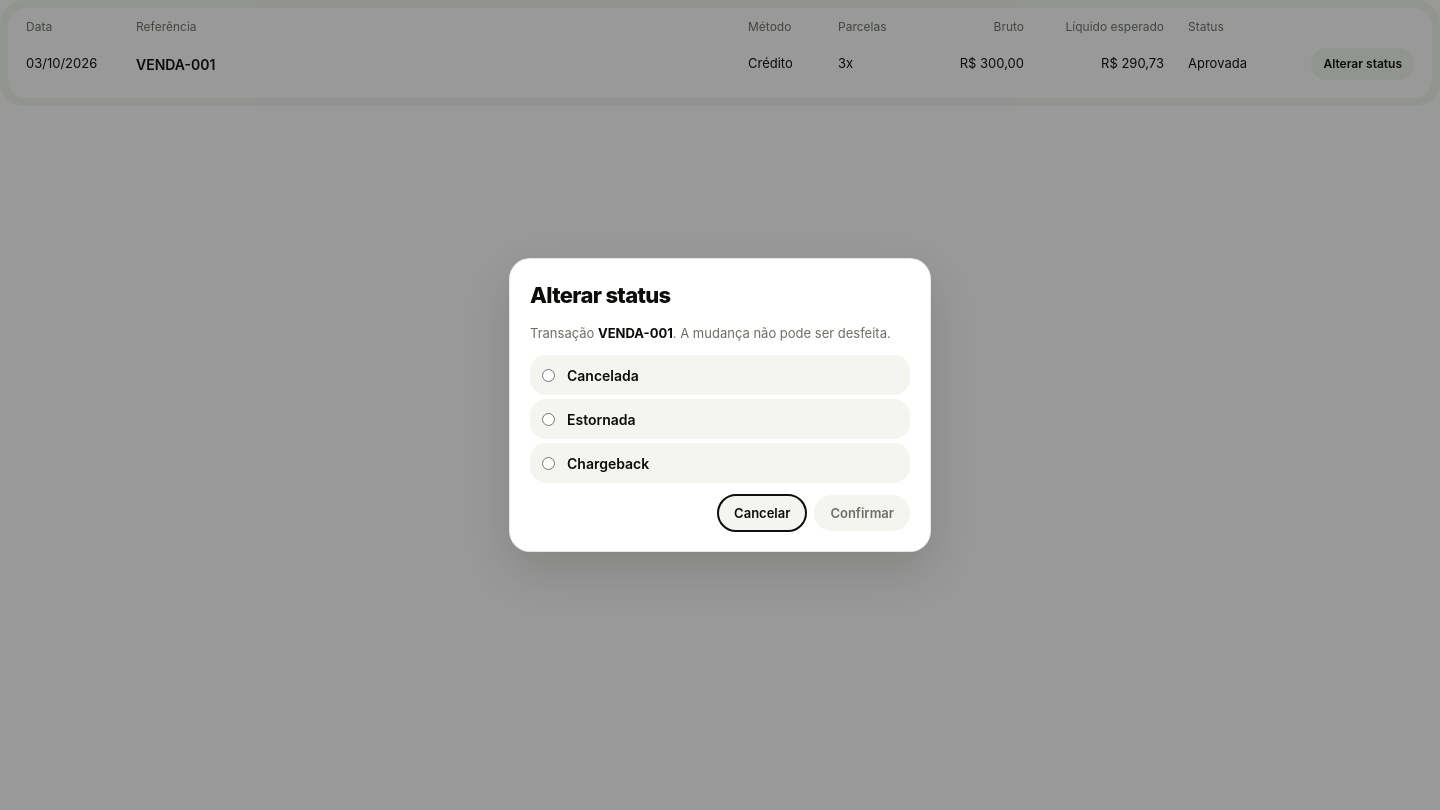
Test: StatusDialog › mantém Confirmar desabilitado sem opção escolhida (TXN-08)
Step 1. Click the button "Confirmar" → (862, 513), box [814,495,910,531]
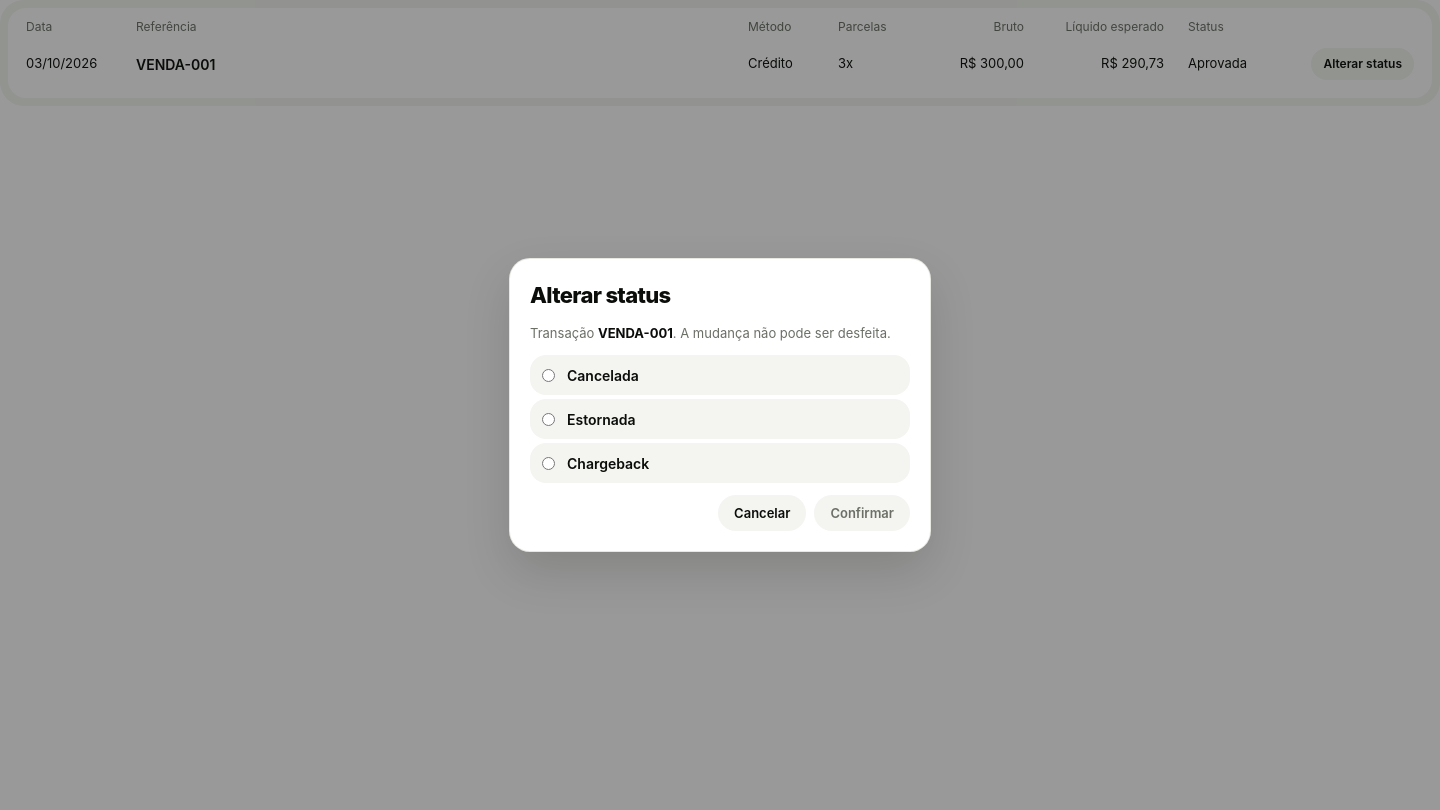
Step 2. Click the radio button labelled "Estornada" → (548, 419), box [542,413,555,426]
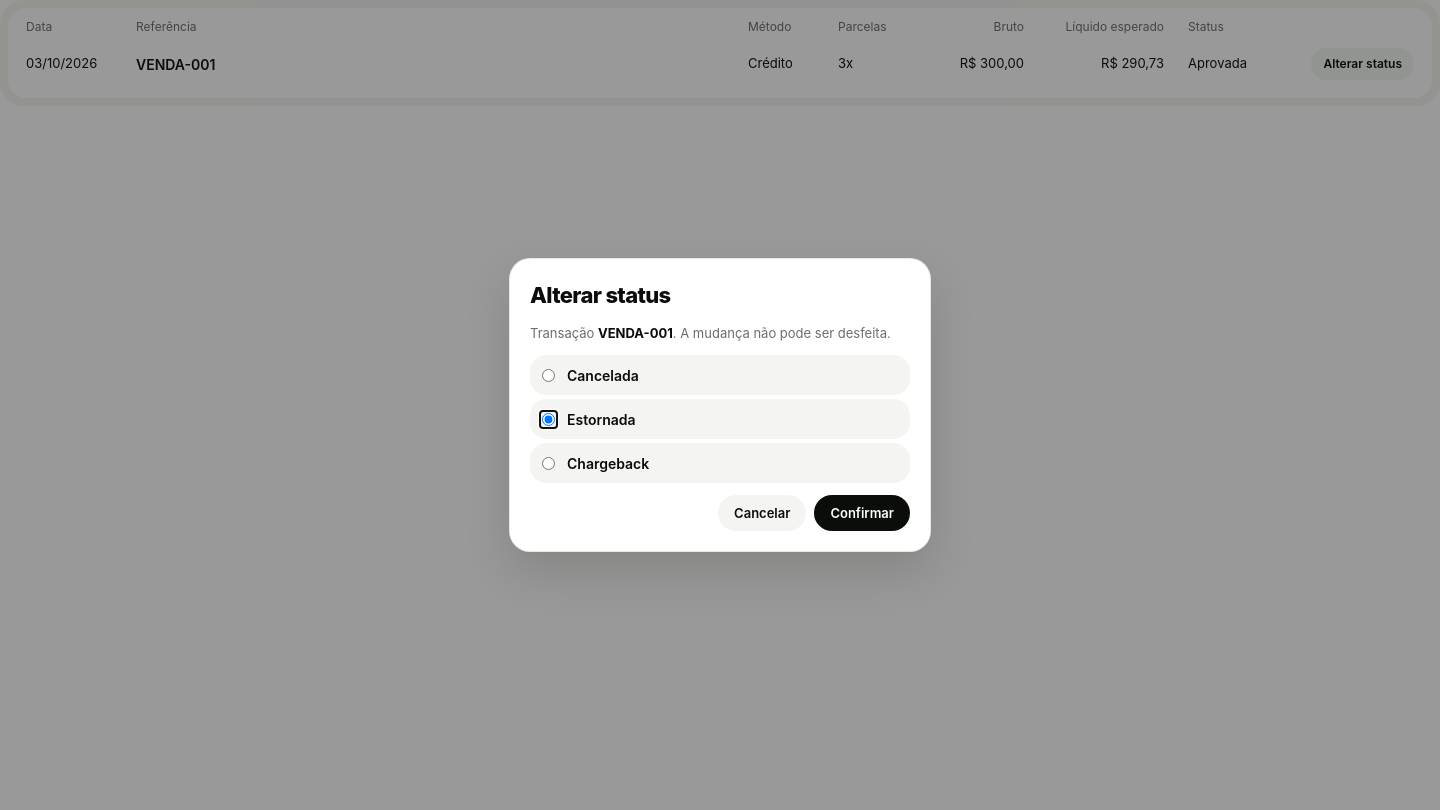
Now the button "Confirmar" is enabled, box [814,495,910,531]
